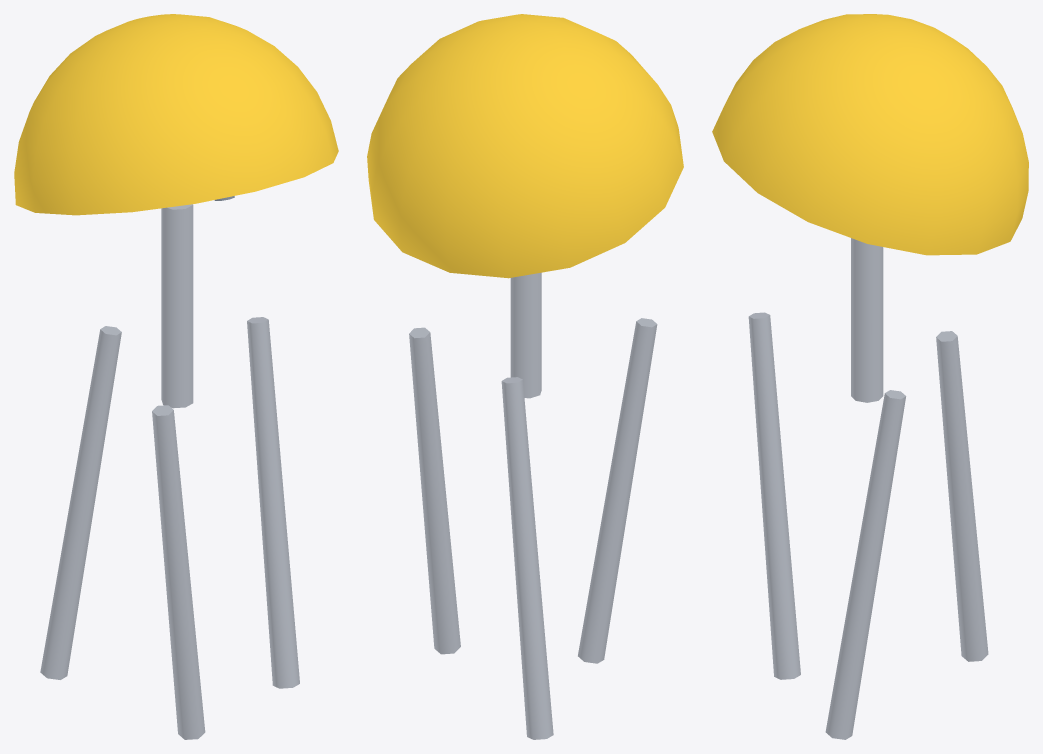
Rendered from radar.glb.
The picture shows the model from 3 angles, left to right: view 1: azimuth 30°, elevation 25°; view 2: azimuth 150°, elevation 25°; view 3: azimuth 270°, elevation 25°; orthographic projection. The views are drawn at different scales.
Size of the model in its own units: 0.6 by 1.35 by 0.5853.
